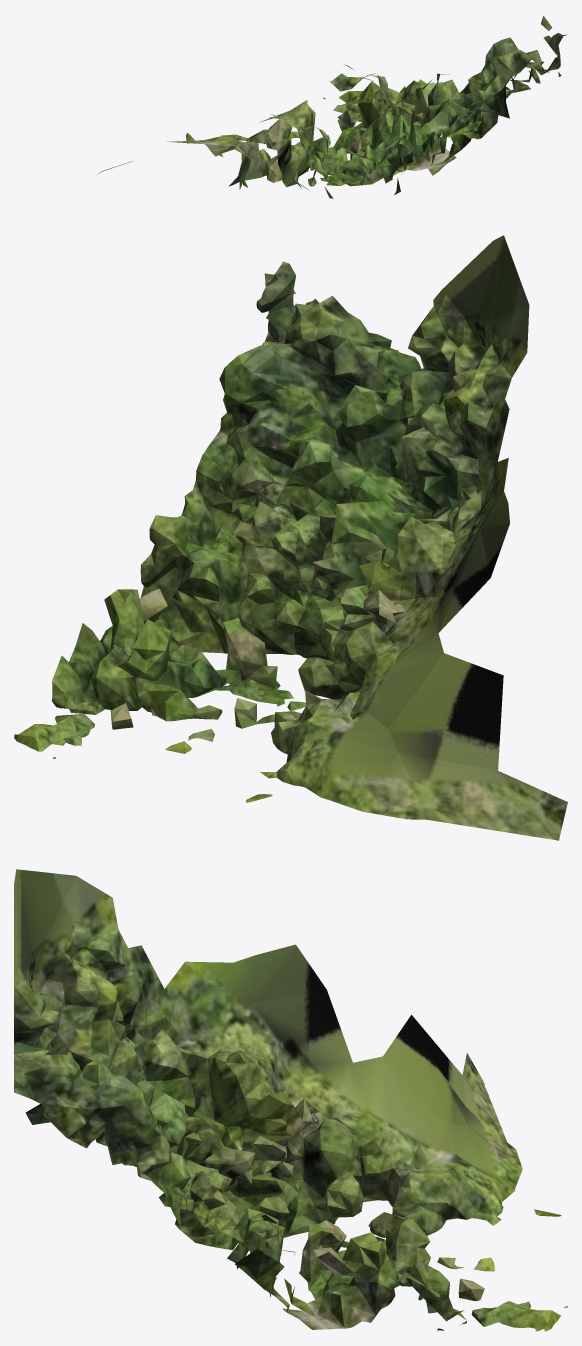
The picture shows the model from 3 angles, top to bottom: view 1: azimuth 30°, elevation 25°; view 2: azimuth 150°, elevation 25°; view 3: azimuth 270°, elevation 25°; orthographic projection. The views are drawn at different scales.
Size of the model in its own units: 104 by 69.98 by 98.77.
3 materials, 3 textured.
